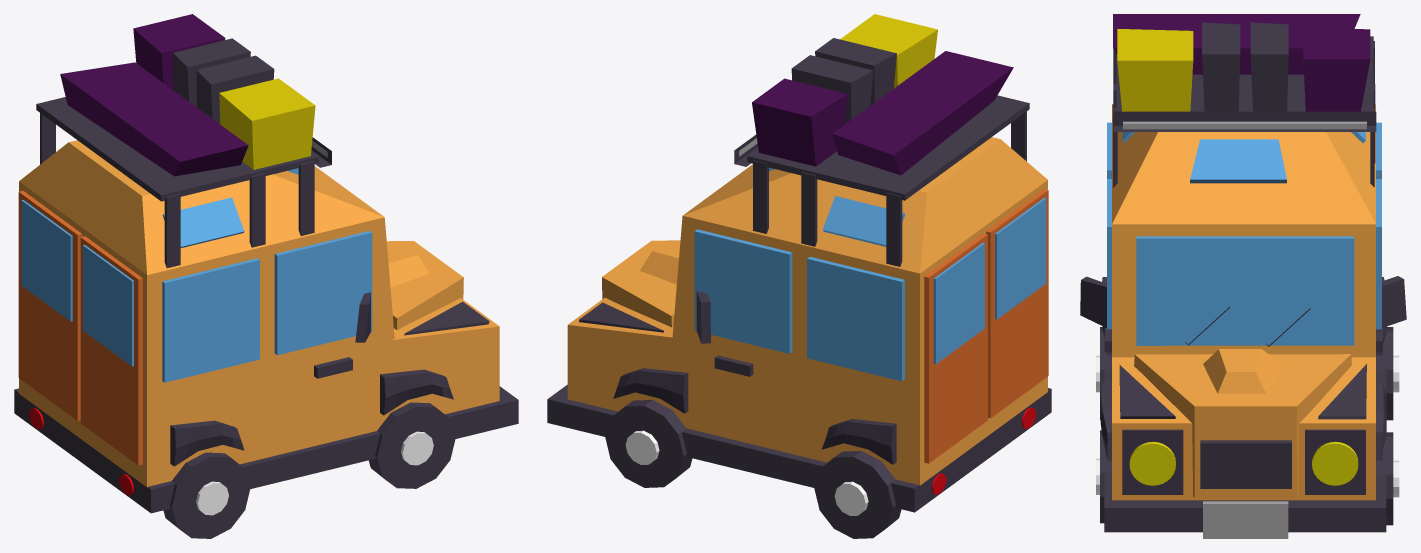
Rendered from car.glb.
3 views of the same model, side by side, from view 1: azimuth 30°, elevation 25°; view 2: azimuth 150°, elevation 25°; view 3: azimuth 270°, elevation 25° (orthographic). The views are drawn at different scales.
Visible parts, largest first — view 1: Cube; view 2: Cube; view 3: Cube.
Boxes of the visible parts, x1,y1,x2,y2 form: Cube: [14, 14, 518, 538]; Cube: [547, 14, 1051, 538]; Cube: [1080, 14, 1406, 538].
Size of the model in its own units: 3.1 by 3.2 by 2.26.
